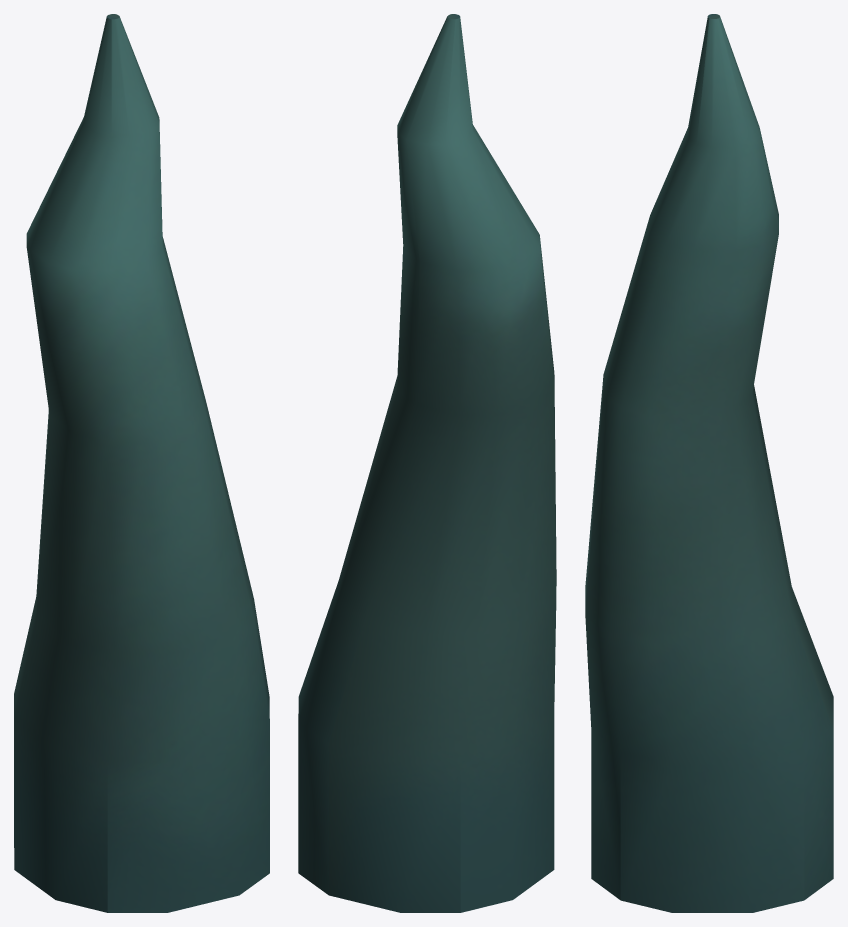
File: stalagmite_02.fbx
3 views of the same model, side by side, from view 1: azimuth 30°, elevation 25°; view 2: azimuth 150°, elevation 25°; view 3: azimuth 270°, elevation 25° (orthographic). The views are drawn at different scales.
Parts seen in each view (by area): view 1: polySurface215; view 2: polySurface215; view 3: polySurface215.
Part boxes in pixels (x1=…): polySurface215: x1=14, y1=14, x2=269, y2=912; polySurface215: x1=298, y1=14, x2=556, y2=912; polySurface215: x1=585, y1=14, x2=833, y2=912.
Bounding box in the file's own units: 0.7123 × 0.73 × 2.7.
